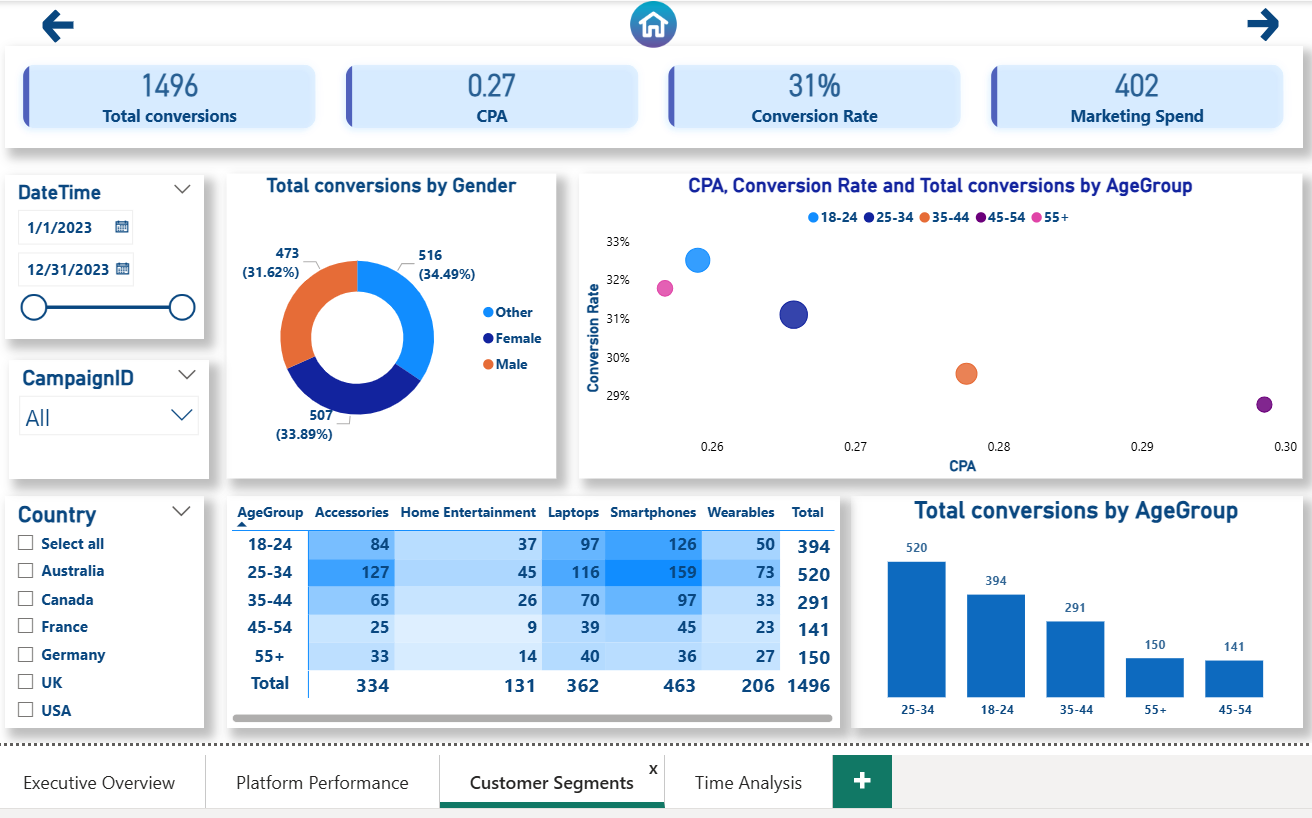

This screenshot's page, from the dashboard's own definition file:
{"tool":"powerbi","page":{"name":"Customer Segments","canvas":[1280,720],"ordinal":2},"visuals":[{"type":"clusteredColumnChart","fields":{"Category":["FitBitDataMarketing.AgeGroup"],"Y":["FitBitDataMarketing.Total conversions"]},"box":[831.7,480,438.3,225],"z":0},{"type":"actionButton","box":[13.3,5,100,40],"z":1000},{"type":"actionButton","box":[1180,3.3,100,40],"z":2000},{"type":"image","box":[586.7,0,106.7,45],"z":3000},{"type":"cardVisual","fields":{"Data":["FitBitDataMarketing.Total conversions","FitBitDataMarketing.CPA","FitBitDataMarketing.Conversion Rate","FitBitDataMarketing.Estimated Cost"]},"box":[10,43.3,1260,98.3],"z":4000},{"type":"scatterChart","fields":{"X":["FitBitDataMarketing.CPA"],"Y":["FitBitDataMarketing.Conversion Rate"],"Size":["FitBitDataMarketing.Total conversions"],"Series":["FitBitDataMarketing.AgeGroup"]},"box":[568,168,702,296],"z":5000},{"type":"donutChart","fields":{"Category":["FitBitDataMarketing.Gender"],"Y":["FitBitDataMarketing.Total conversions"]},"box":[226,168,320,296],"z":6000},{"type":"pivotTable","fields":{"Rows":["FitBitDataMarketing.AgeGroup"],"Columns":["FitBitDataMarketing.ProductCategory"],"Values":["FitBitDataMarketing.Total conversions"]},"box":[225,480,595,225],"z":7000},{"type":"slicer","fields":{"Values":["FitBitDataMarketing.DateTime"]},"box":[10,168.3,193.3,158.3],"z":8000},{"type":"slicer","fields":{"Values":["FitBitDataMarketing.CampaignID"]},"box":[14,348,194,116],"z":9000},{"type":"slicer","fields":{"Values":["FitBitDataMarketing.Country"]},"box":[10,480,193.3,225],"z":10000}]}

Visuals, with their boxes on the page's 1280x720 design canvas (x1, y1, x2, y2). These are canvas units, not pixel positions in the 1312x818 screenshot, which may show the page scaled, cropped or inside an application window:
clusteredColumnChart - FitBitDataMarketing.AgeGroup x FitBitDataMarketing.Total conversions: (left=832, top=480, right=1270, bottom=705)
actionButton: (left=13, top=5, right=113, bottom=45)
actionButton: (left=1180, top=3, right=1280, bottom=43)
image: (left=587, top=0, right=693, bottom=45)
cardVisual - FitBitDataMarketing.Total conversions x FitBitDataMarketing.CPA: (left=10, top=43, right=1270, bottom=142)
scatterChart - FitBitDataMarketing.CPA x FitBitDataMarketing.Conversion Rate: (left=568, top=168, right=1270, bottom=464)
donutChart - FitBitDataMarketing.Gender x FitBitDataMarketing.Total conversions: (left=226, top=168, right=546, bottom=464)
pivotTable - FitBitDataMarketing.AgeGroup x FitBitDataMarketing.ProductCategory: (left=225, top=480, right=820, bottom=705)
slicer - FitBitDataMarketing.DateTime: (left=10, top=168, right=203, bottom=327)
slicer - FitBitDataMarketing.CampaignID: (left=14, top=348, right=208, bottom=464)
slicer - FitBitDataMarketing.Country: (left=10, top=480, right=203, bottom=705)
